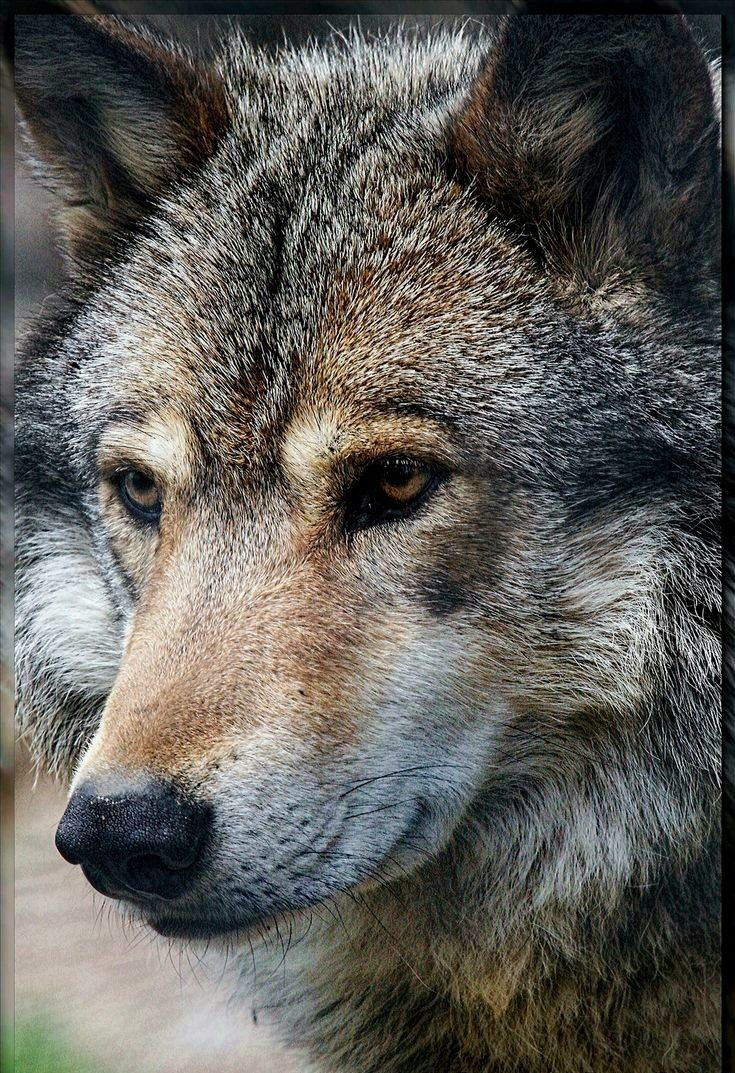Lobo: (15, 20, 718, 981)
